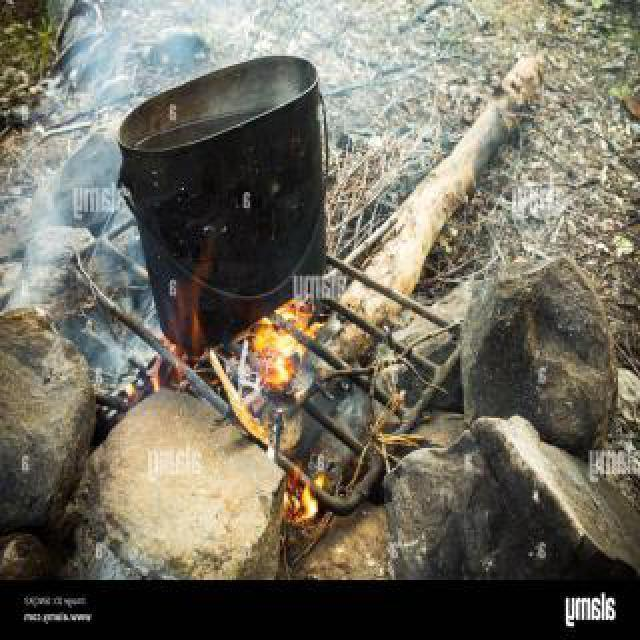Fire: (248, 268, 348, 394), (284, 464, 334, 532)
Smoke: (8, 90, 164, 390)
